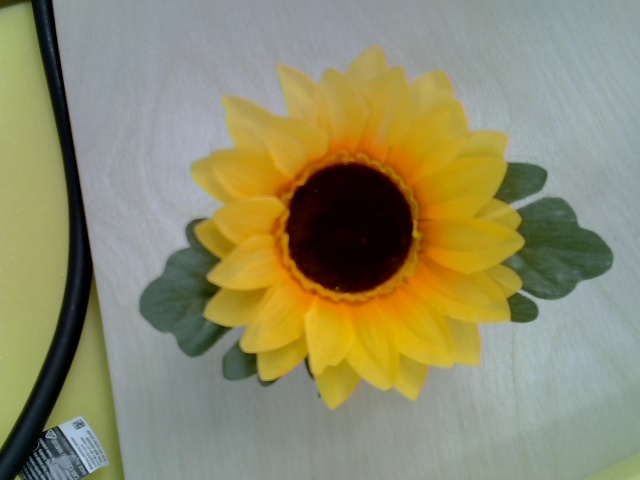해바라기: (194, 47, 520, 407)
